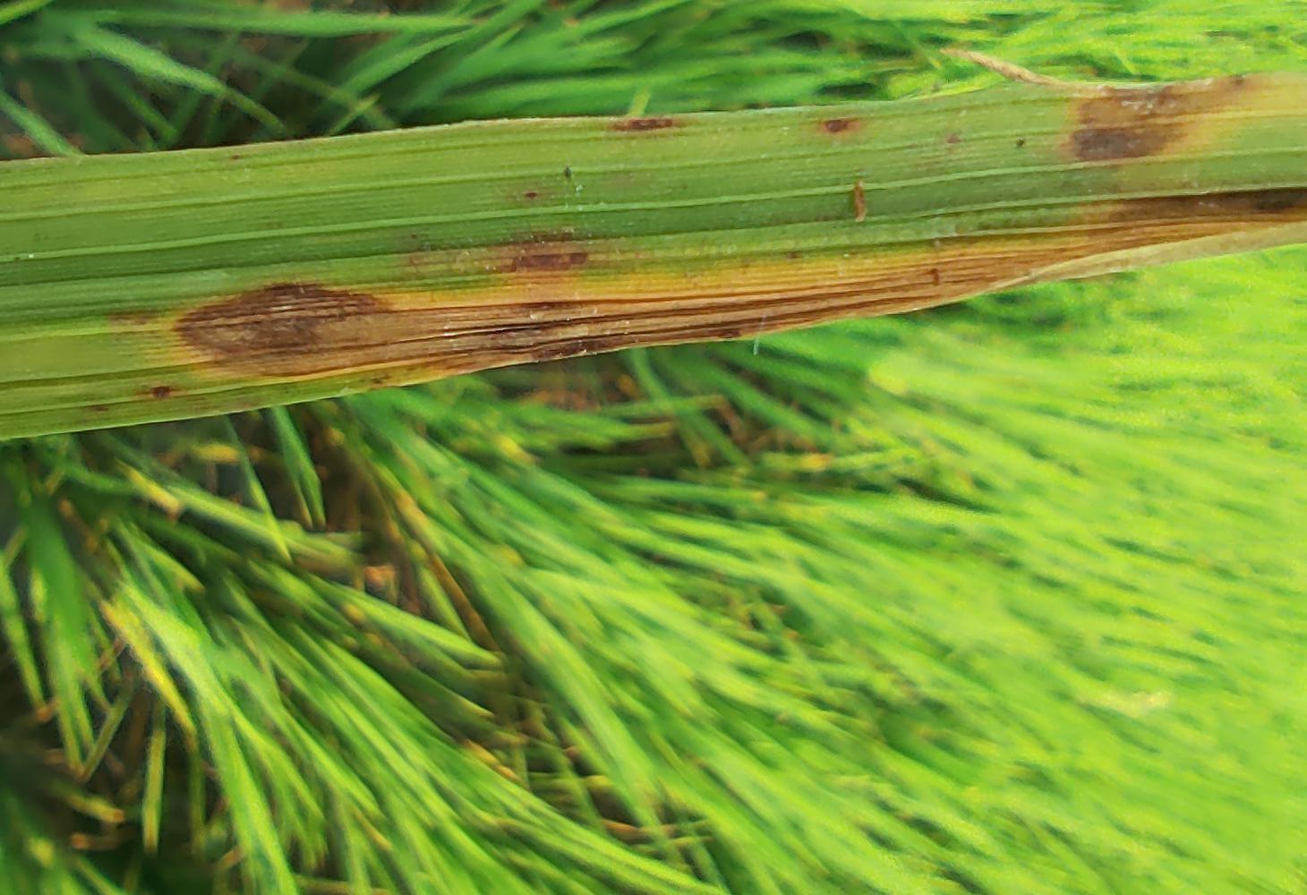LEAF BLAST: (101, 178, 1305, 387), (1053, 69, 1306, 169)
